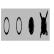correct: (28, 15, 35, 36)
not correct: (39, 10, 49, 40)
